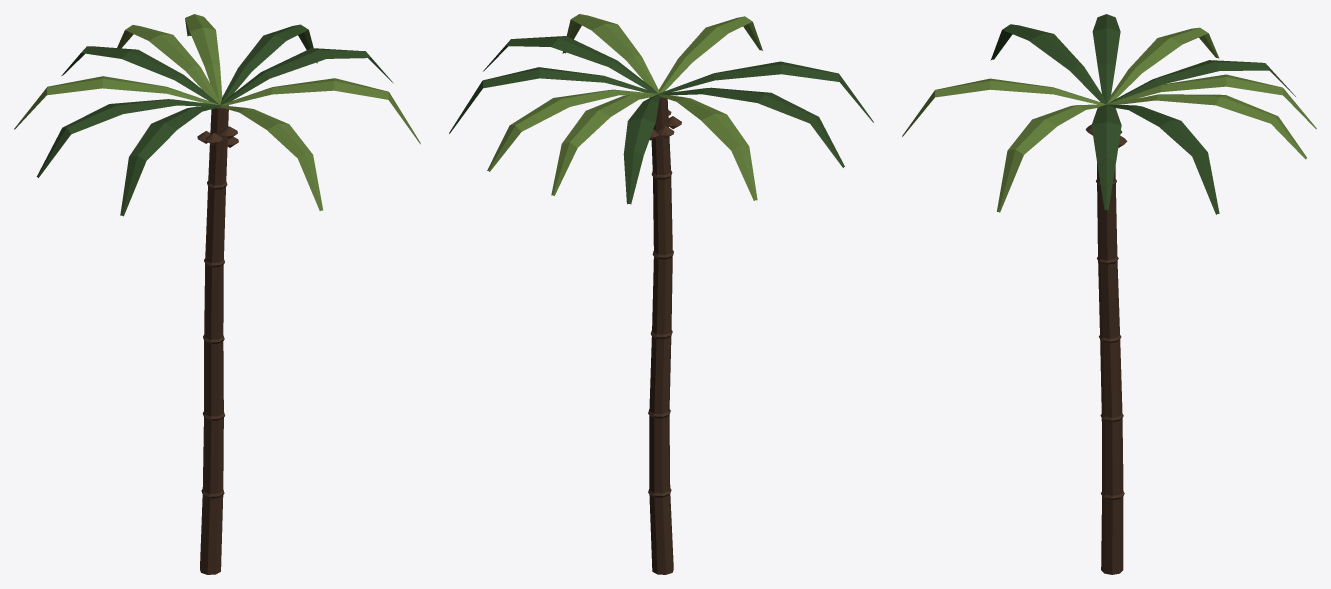
File: coconut_palm.glb
3 views of the same model, side by side, from view 1: azimuth 30°, elevation 25°; view 2: azimuth 150°, elevation 25°; view 3: azimuth 270°, elevation 25° (orthographic).
Parts seen in each view (by area): view 1: coconut_palm; view 2: coconut_palm; view 3: coconut_palm.
Part boxes in pixels (x1=…): coconut_palm: x1=14, y1=14, x2=420, y2=574; coconut_palm: x1=449, y1=14, x2=873, y2=574; coconut_palm: x1=902, y1=14, x2=1316, y2=574.
Bounding box in the file's own units: 6 × 8 × 6.
